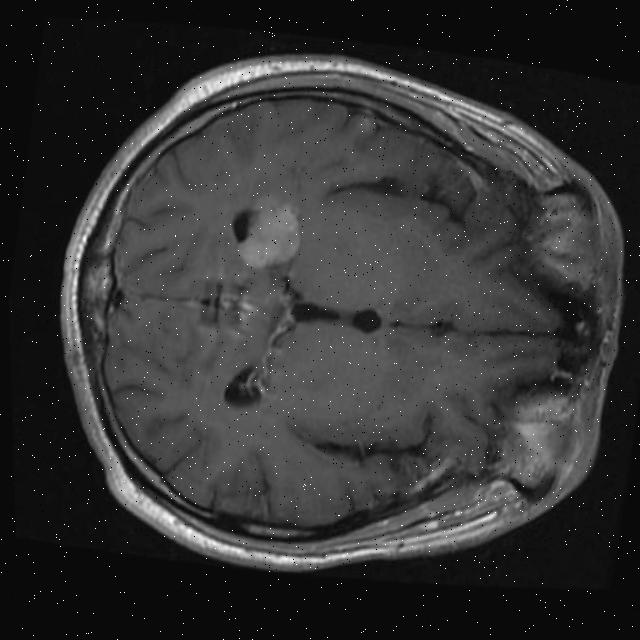Meningioma: (223, 191, 307, 278)
